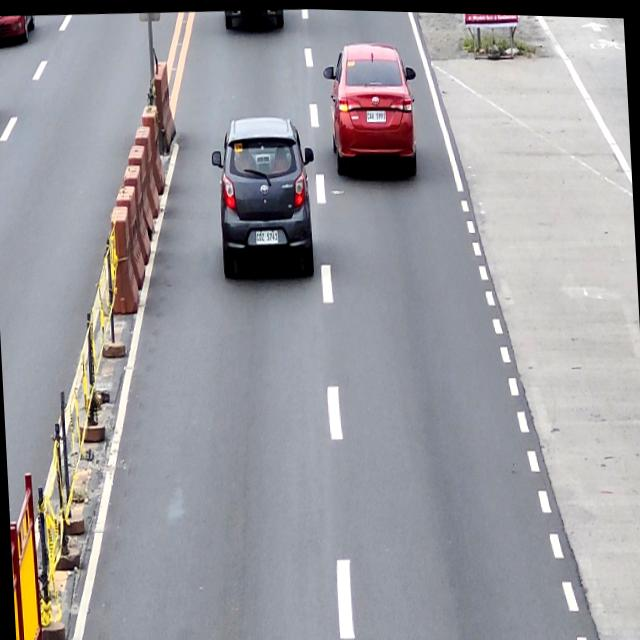Car: (210, 112, 320, 281), (323, 39, 421, 179)
License-Plate: (256, 228, 278, 244), (366, 107, 387, 122)
